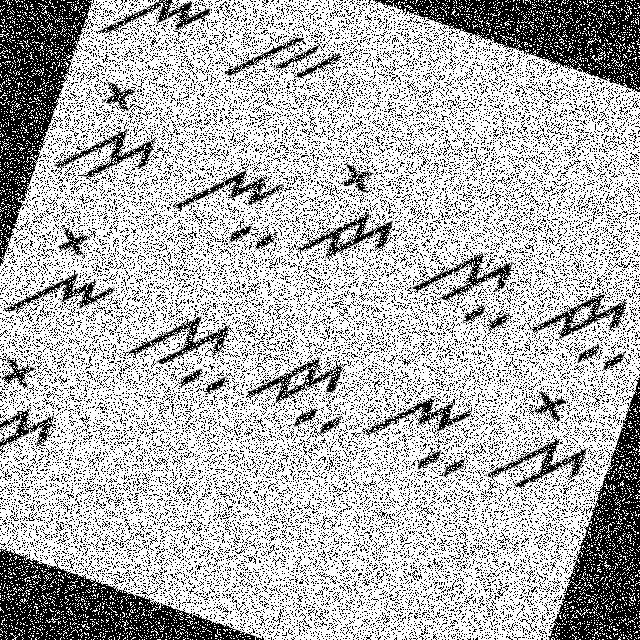jah: (517, 254, 639, 383), (234, 327, 364, 448)
jo: (286, 141, 416, 282), (0, 343, 79, 483)
nyah: (163, 128, 305, 270), (352, 368, 491, 490)
nyo: (0, 204, 135, 348), (94, 0, 229, 72)
sah: (398, 217, 534, 341), (118, 285, 252, 407)
so: (47, 58, 184, 207), (481, 374, 606, 508)
